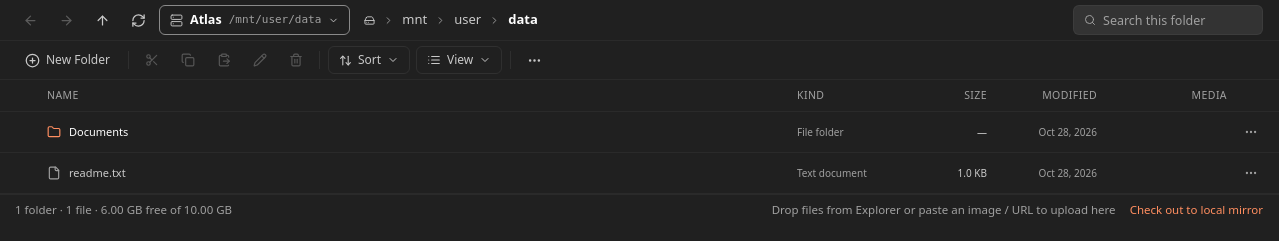
Scenario: BrowseView favorites — overflow menu toggle › reads "Remove from favourites" when the current folder is already saved
Expected: the text "readme.txt" is shown, left=69, top=165, right=126, bottom=181
Click the button named "More options" at [534, 60], box left=519, top=45, right=549, bottom=75
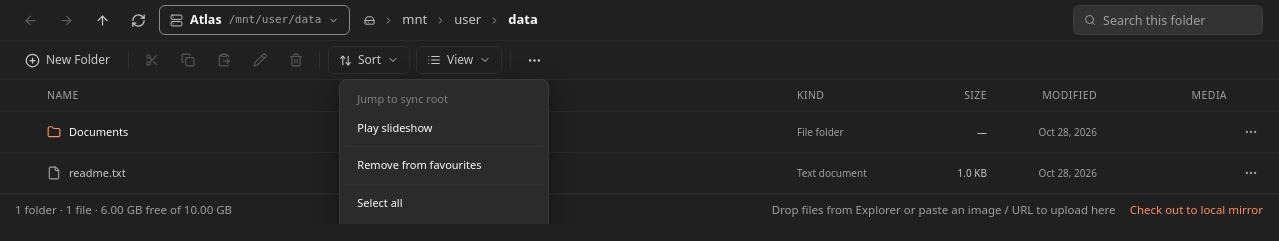
Expected: the menu item "Remove from favourites" is shown, left=345, top=151, right=543, bottom=180
